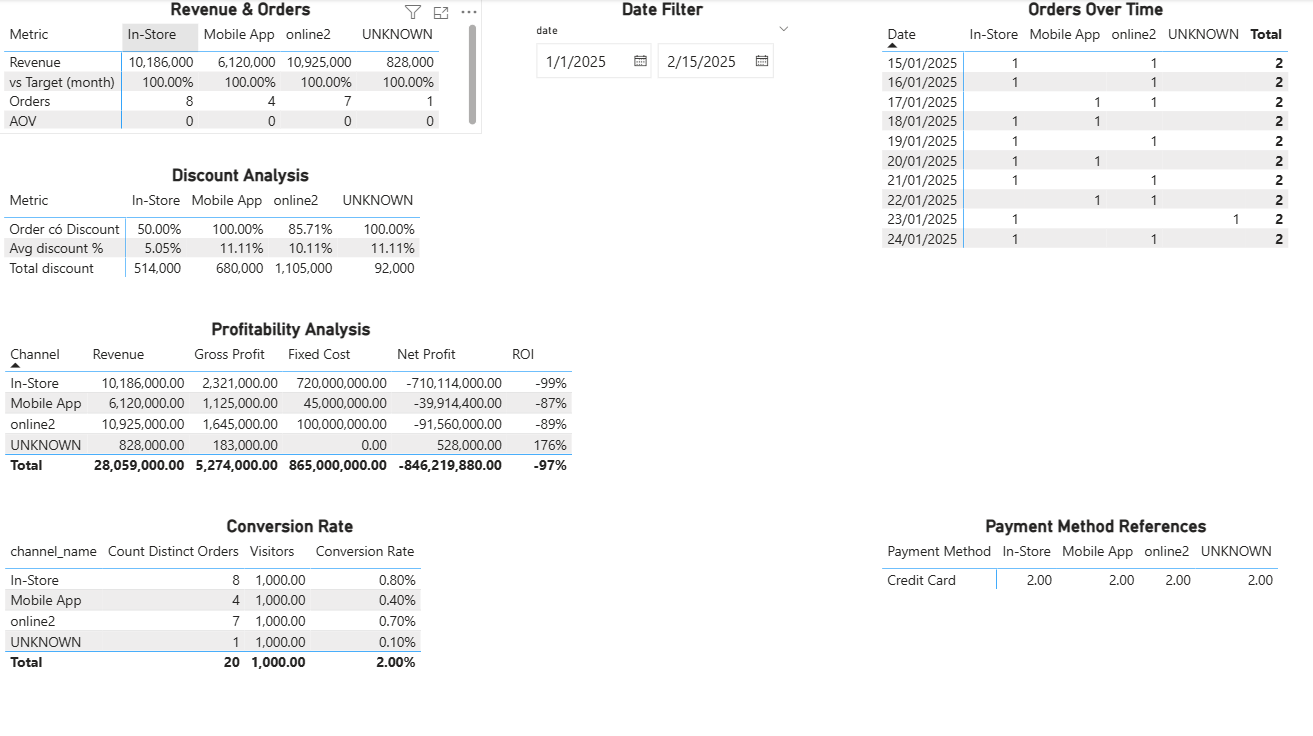

This screenshot's page, from the dashboard's own definition file:
{"tool":"powerbi","page":{"name":"CHANNEL PERFORMANCE","canvas":[1280,720],"ordinal":1},"visuals":[{"type":"pivotTable","title":"Revenue & Orders","fields":{"Rows":["Metric Table.Metric"],"Columns":["dim_channel.channel_name"],"Values":["fact_sales.Metric Value"]},"box":[0,0,469.8,131.3],"z":0},{"type":"pivotTable","title":"Discount Analysis","fields":{"Rows":["Discount_Analysis.Metric"],"Columns":["dim_channel.channel_name"],"Values":["fact_sales.Discount_analysis"]},"box":[0,161.5,469.8,149.8],"z":1000},{"type":"slicer","title":"Date Filter","fields":{"Values":["dim_date.full_date"]},"box":[509.7,0,271.4,99.2],"z":2000},{"type":"tableEx","title":"Profitability Analysis","fields":{"Values":["dim_channel.channel_name","Sum(fact_sales.amount)","Sum(fact_sales.profit_amount)","Sum(dim_channel.monthly_fixed_cost)","select","select1","Sum(dim_channel.commission_rate)"]},"box":[0,311.2,568,184.8],"z":3000},{"type":"tableEx","title":"Conversion Rate","fields":{"Values":["dim_channel.channel_name","fact_sales.Count Distinct Orders","select","select1"]},"box":[0,502.9,566.1,185.8],"z":3001},{"type":"pivotTable","title":"Orders Over Time","fields":{"Rows":["dim_date.full_date"],"Columns":["dim_channel.channel_name"],"Values":["fact_sales.Count Distinct Orders"]},"box":[854,0,426,359.9],"z":3002},{"type":"pivotTable","title":"Payment Method References","fields":{"Columns":["dim_channel.channel_name"],"Values":["select1"],"Rows":["fact_sales.Payment Method"]},"box":[854,502.9,426,185.8],"z":3003}]}

Visuals, with their boxes in screenshot pixels (x1, y1, x2, y2), scaled from the page's 1280x720 canvas onto the 1313x736 screenshot:
"Revenue & Orders" pivotTable: detection(0, 0, 482, 134)
"Discount Analysis" pivotTable: detection(0, 165, 482, 318)
"Date Filter" slicer: detection(523, 0, 801, 101)
"Profitability Analysis" tableEx: detection(0, 318, 583, 507)
"Conversion Rate" tableEx: detection(0, 514, 581, 704)
"Orders Over Time" pivotTable: detection(876, 0, 1312, 368)
"Payment Method References" pivotTable: detection(876, 514, 1312, 704)
